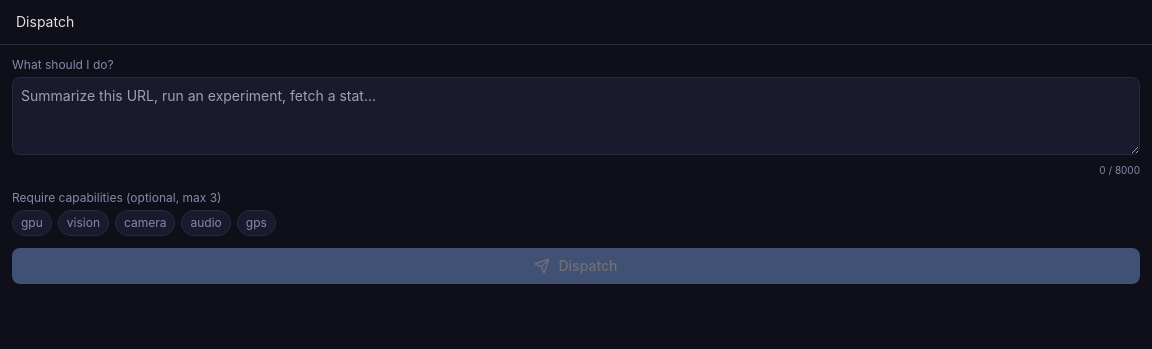
Test: <MobileDispatch /> › submits with the user prompt and selected caps
In the text box with test id "dispatch-prompt": (576, 116) [12, 77, 1140, 155], type "tell me a joke"
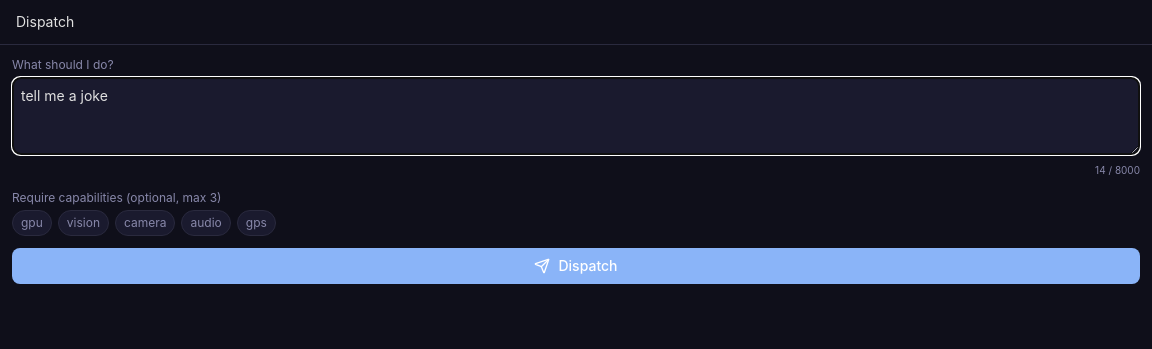
Toggle two caps.
Click the button with test id "cap-chip-gpu": (32, 223) [12, 210, 52, 236]
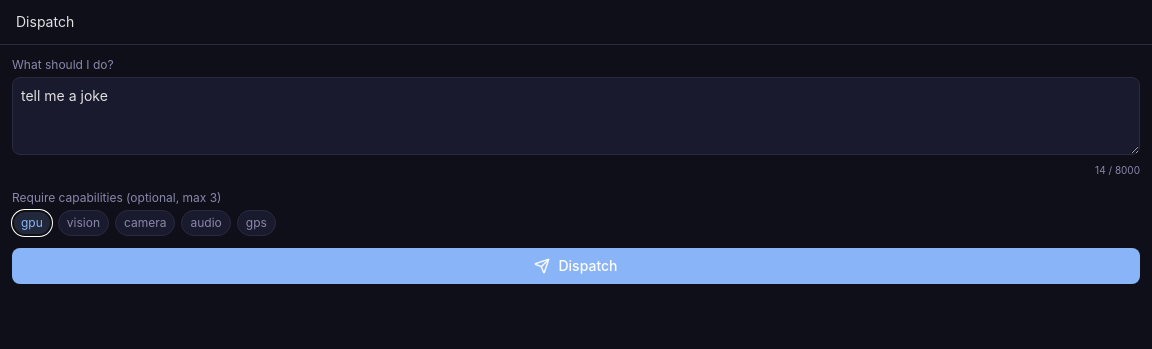
Click the button with test id "cap-chip-vision": (83, 223) [58, 210, 109, 236]
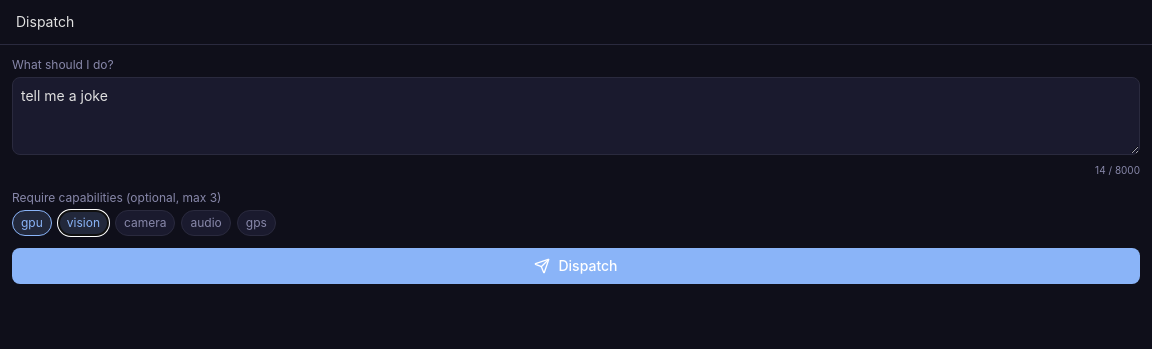
Click the button with test id "dispatch-submit": (576, 266) [12, 248, 1140, 284]
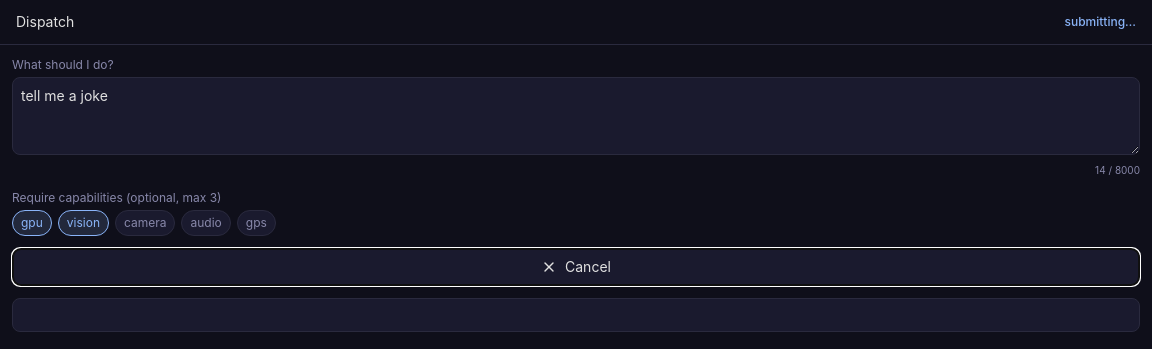
Now the text "submitting…" is shown, box [1064, 14, 1136, 30]
